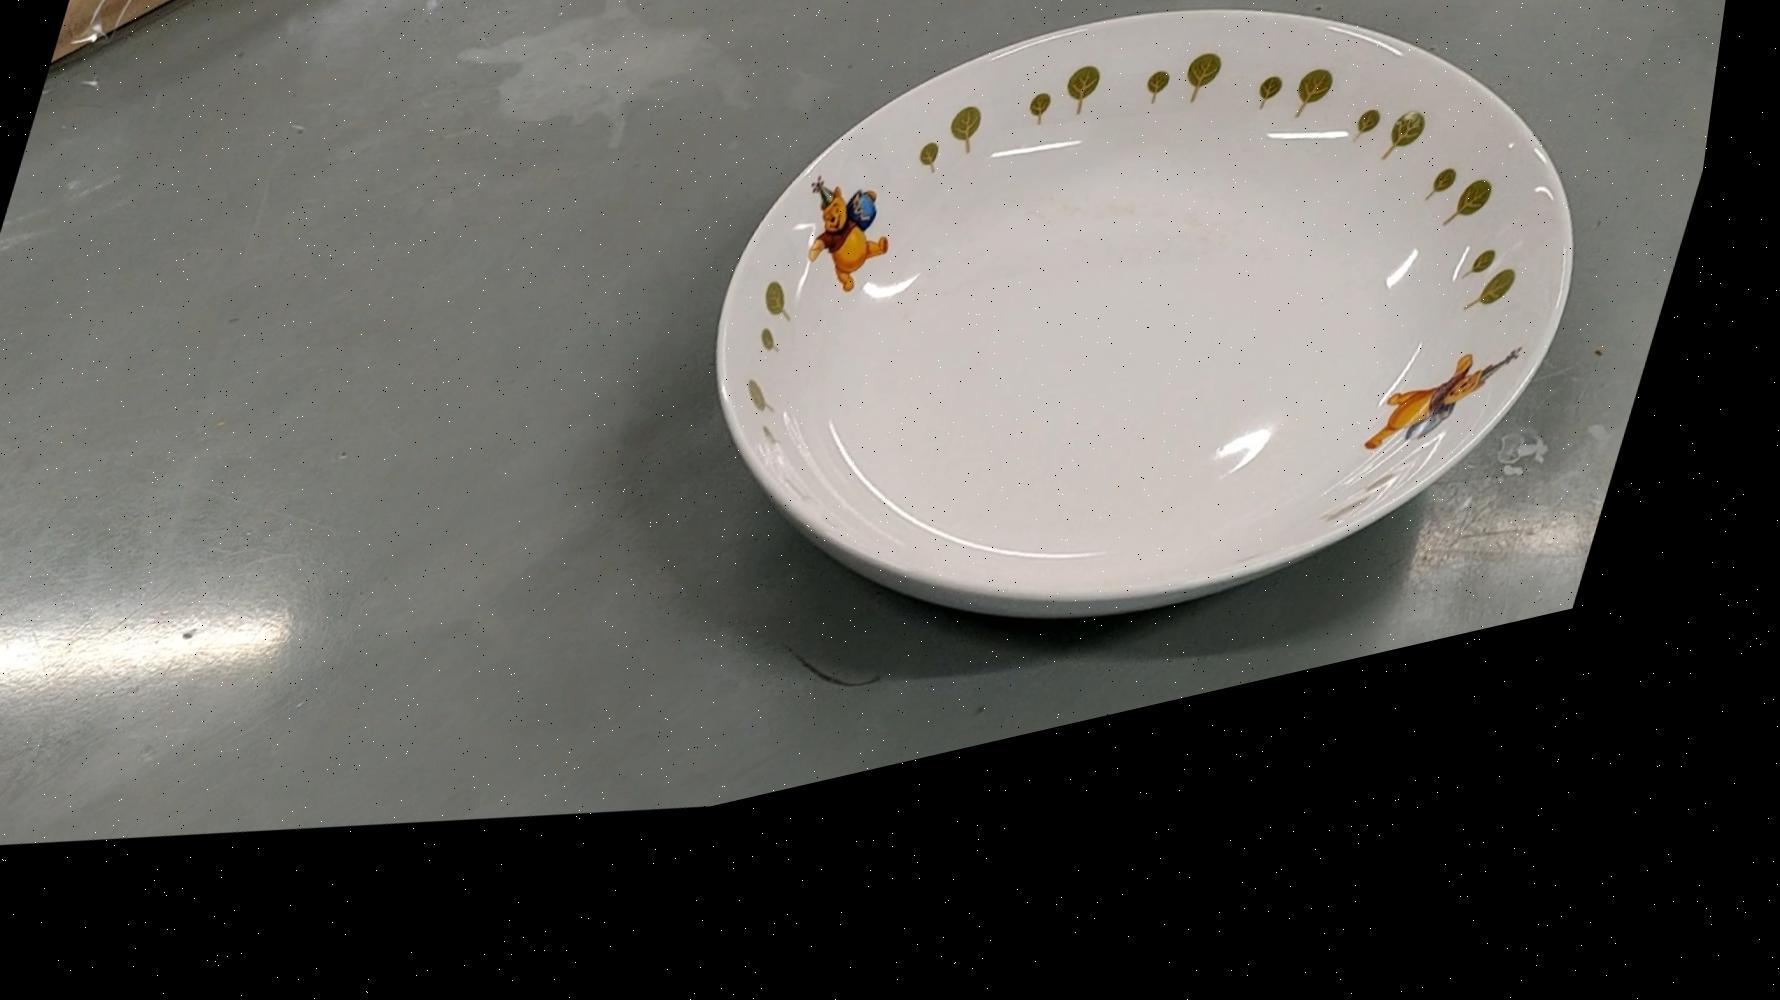plate: (628, 0, 1680, 833)
